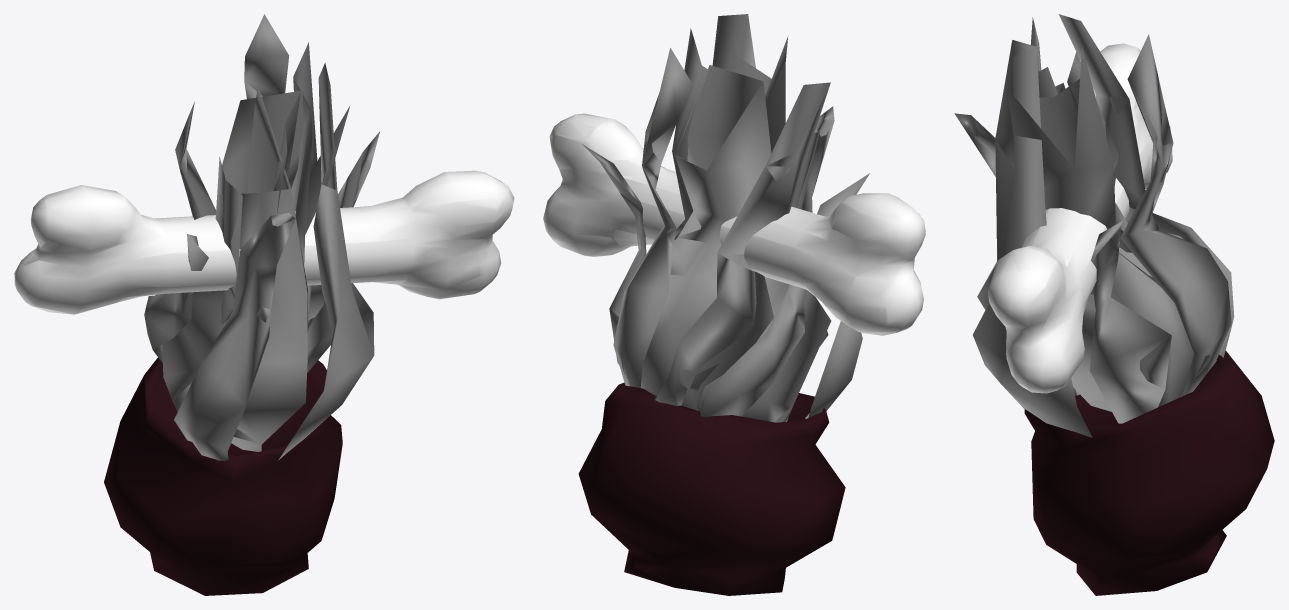
Rendered from knotbone1.fbx.
3 renders of one model, left to right at view 1: azimuth 30°, elevation 25°; view 2: azimuth 150°, elevation 25°; view 3: azimuth 270°, elevation 25°, orthographic. The views are drawn at different scales.
Parts seen in each view (by area): view 1: Plant jar; view 2: Plant jar; view 3: Plant jar.
Part boxes in pixels (left/top/right/bottom): Plant jar: left=14, top=14, right=514, bottom=595; Plant jar: left=543, top=14, right=925, bottom=595; Plant jar: left=954, top=14, right=1274, bottom=595.
Bounding box in the file's own units: 0.1673 × 0.2007 × 0.1047.
